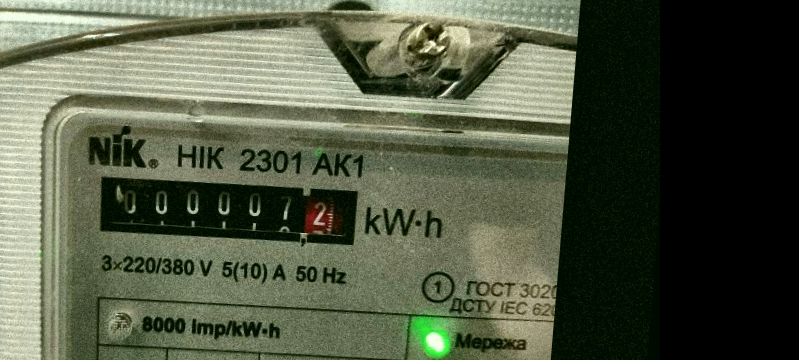0: (120, 186, 139, 214), (214, 188, 233, 216), (183, 186, 201, 215), (246, 189, 263, 219), (152, 187, 170, 215)
2: (310, 200, 328, 227)
7: (277, 191, 294, 222)
screen: (85, 162, 370, 257)
